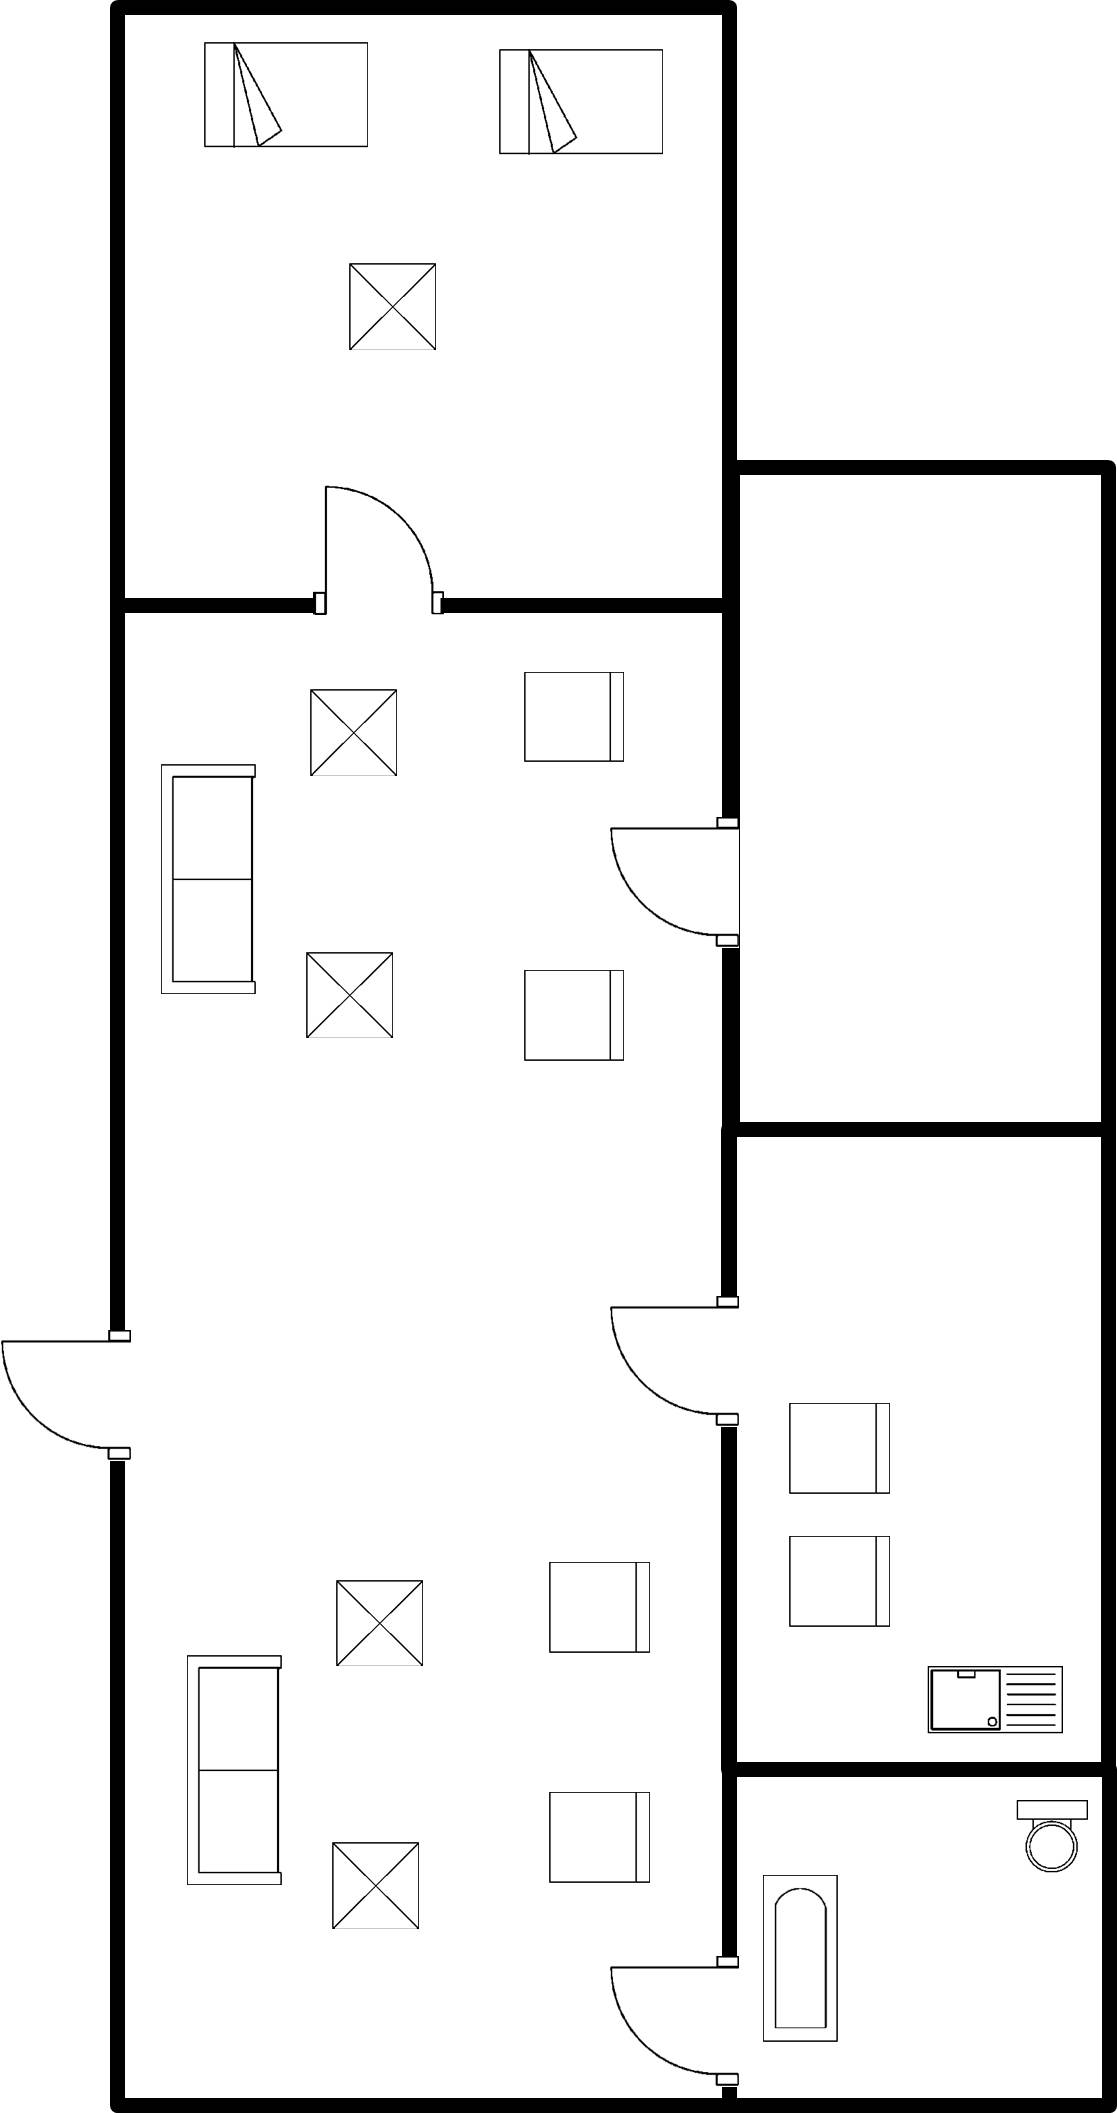bed: (482, 31, 680, 169), (192, 29, 380, 162)
coffee_table: (317, 1827, 432, 1941), (336, 244, 449, 360), (324, 1569, 438, 1677), (299, 679, 411, 785), (296, 944, 403, 1054)
large_sink: (1001, 1787, 1094, 1883)
large_sofa: (142, 750, 271, 1006), (169, 1641, 292, 1902)
sink: (915, 1652, 1076, 1746)
small_sofa: (509, 660, 640, 781), (538, 1544, 665, 1666), (782, 1523, 909, 1644), (776, 1391, 905, 1508), (538, 1781, 663, 1896), (511, 958, 632, 1073)
tub: (751, 1862, 851, 2062)
